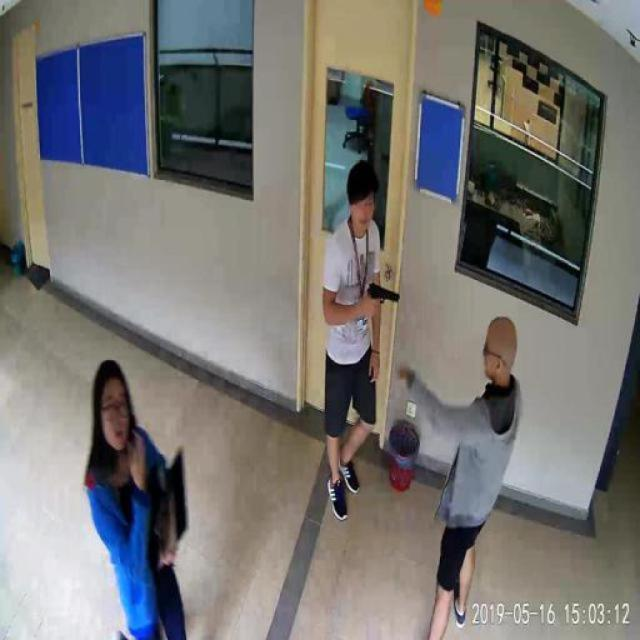pistol: (367, 280, 398, 315)
